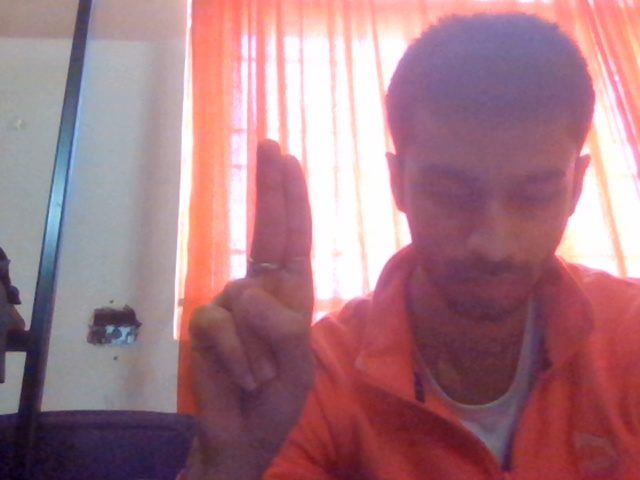U: (163, 130, 374, 480)
